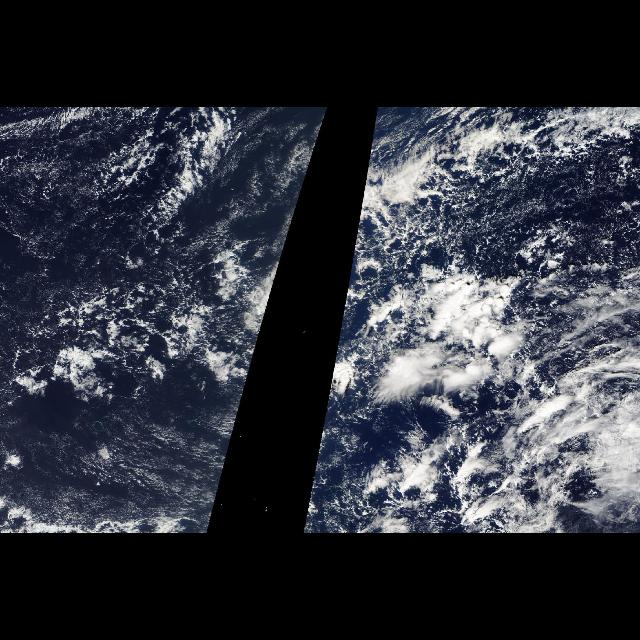Fish: (349, 118, 621, 280), (309, 118, 325, 170)
Gravel: (2, 109, 240, 353)
Sugar: (4, 382, 246, 526), (2, 110, 165, 314)
